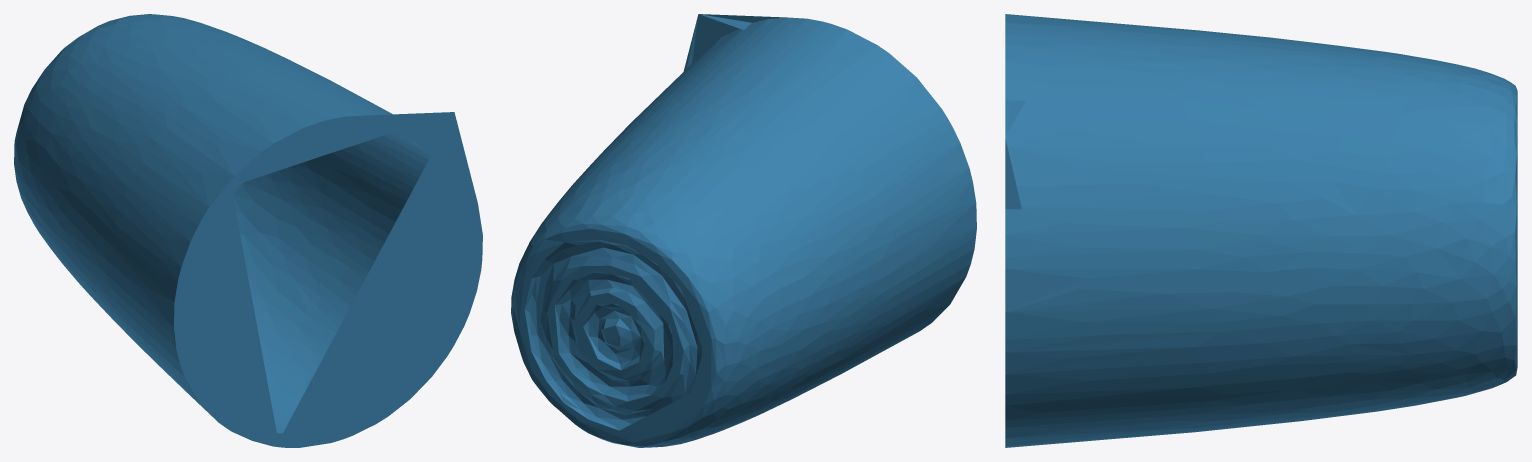
3 renders of one model, left to right at view 1: azimuth 30°, elevation 25°; view 2: azimuth 150°, elevation 25°; view 3: azimuth 270°, elevation 25°, orthographic. The views are drawn at different scales.
Parts seen in each view (by area): view 1: cup.ply; view 2: cup.ply; view 3: cup.ply.
Boxes of the visible parts, bbox=[...] form: cup.ply: bbox=[14, 14, 482, 447]; cup.ply: bbox=[511, 14, 976, 447]; cup.ply: bbox=[1005, 14, 1517, 447].
Bounding box in the file's own units: 0.0846 × 0.0847 × 0.1.
